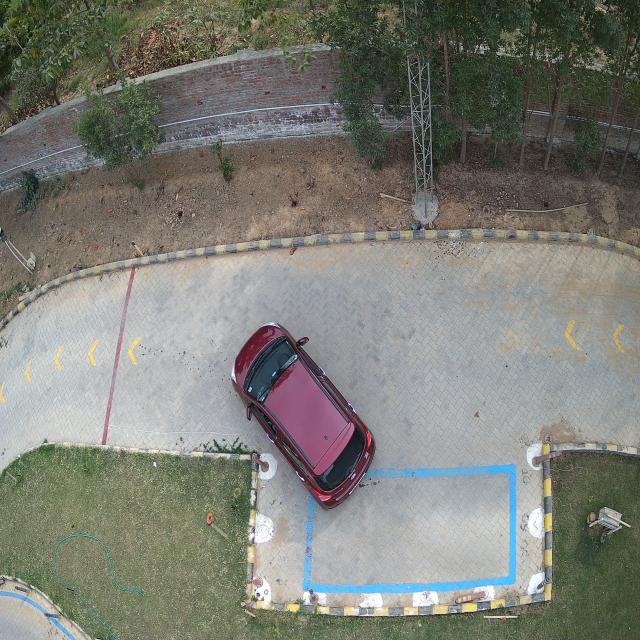car: (231, 323, 375, 508)
